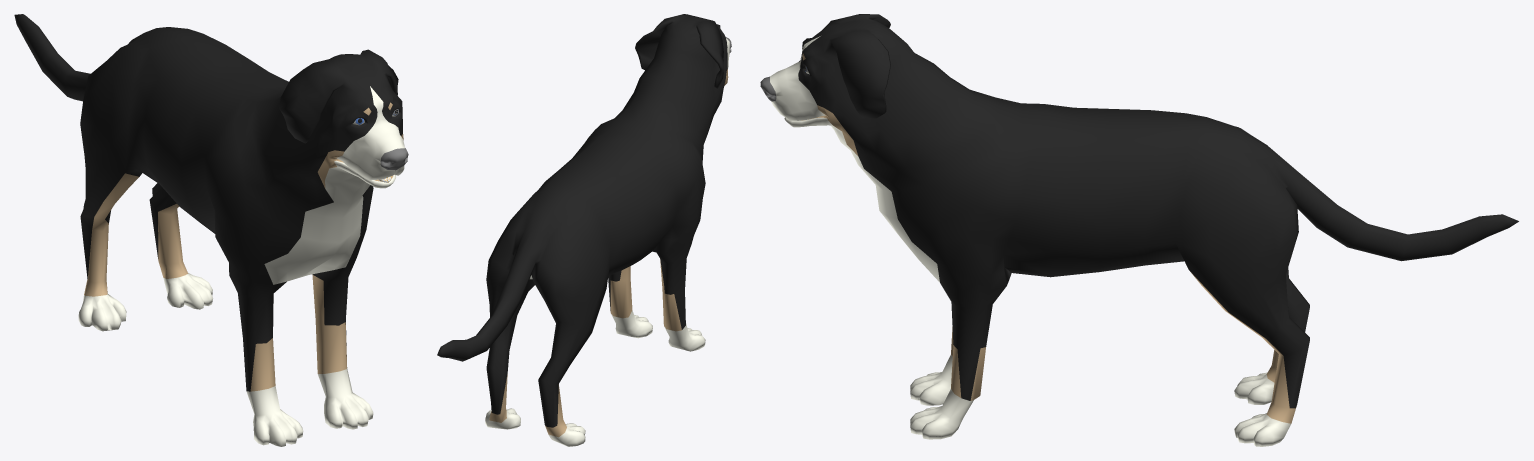
3 renders of one model, left to right at view 1: azimuth 30°, elevation 25°; view 2: azimuth 150°, elevation 25°; view 3: azimuth 270°, elevation 25°, orthographic. The views are drawn at different scales.
Visible parts, largest first — view 1: SketchUp (×13); view 2: SketchUp (×8); view 3: SketchUp (×9).
Part boxes in pixels (x1,y1,x2,y2): SketchUp (×13): (14, 14, 408, 446); SketchUp (×8): (437, 14, 727, 446); SketchUp (×9): (770, 14, 1518, 446).
Bounding box in the file's own units: 11.65 × 54.44 × 31.19.
